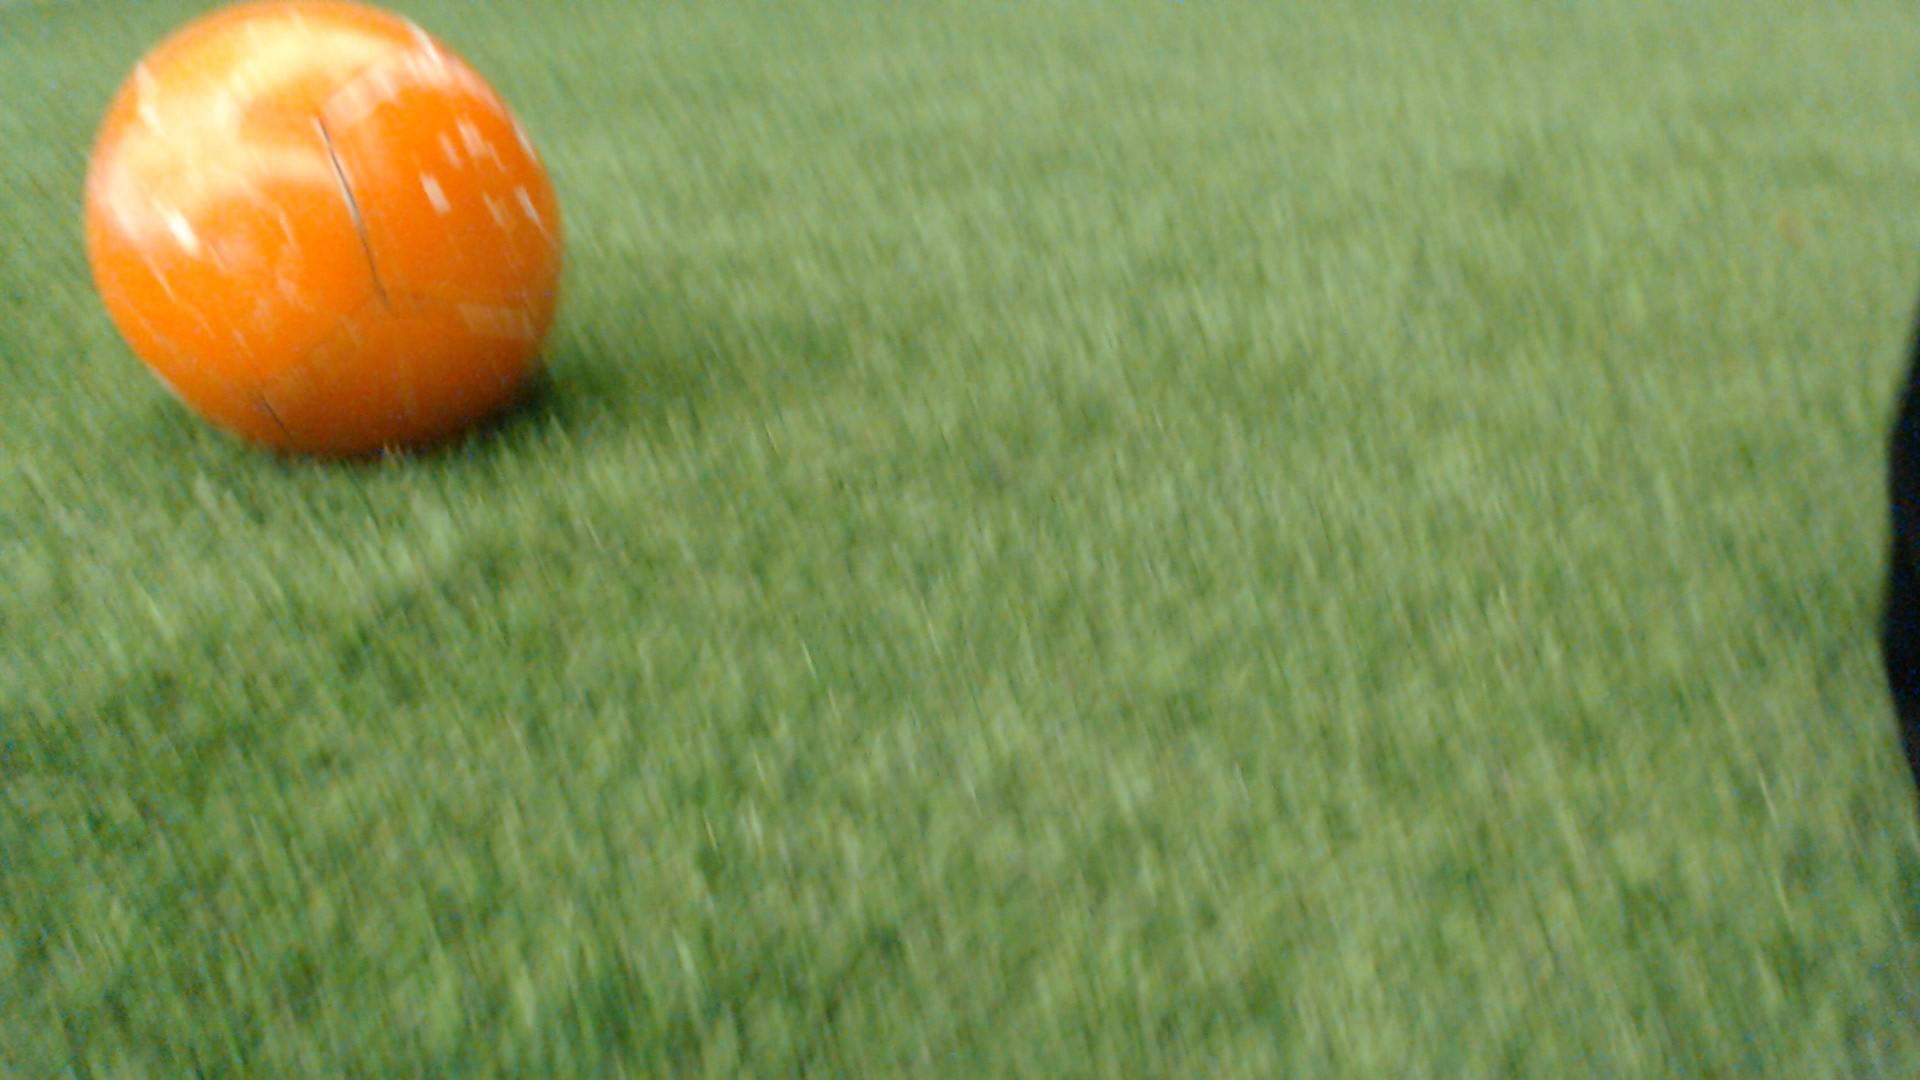bola: (47, 0, 611, 483)
